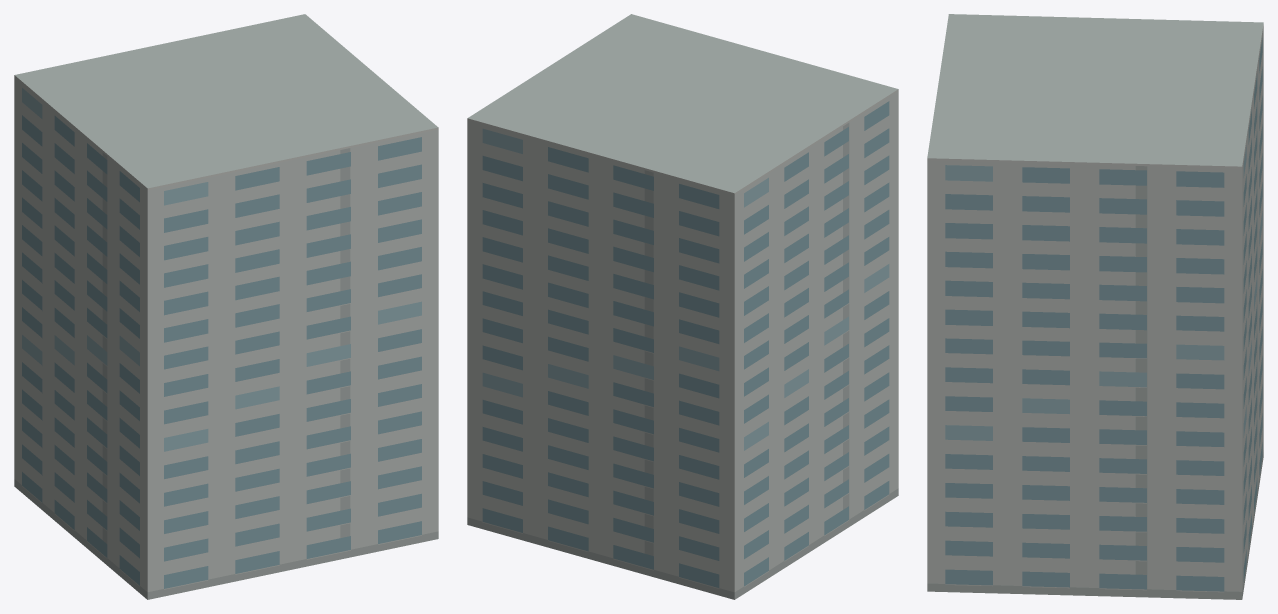
File: residential-554f9976-aea0-437b-ad8a-81db6214e89d.glb
3 renders of one model, left to right at view 1: azimuth 30°, elevation 25°; view 2: azimuth 150°, elevation 25°; view 3: azimuth 270°, elevation 25°, orthographic. The views are drawn at different scales.
Visible parts, largest first — view 1: residential-554f9976-aea0-437b-ad8a-81db6214e89d.tmp; view 2: residential-554f9976-aea0-437b-ad8a-81db6214e89d.tmp; view 3: residential-554f9976-aea0-437b-ad8a-81db6214e89d.tmp.
Boxes of the visible parts, x1,y1,x2,y2 form: residential-554f9976-aea0-437b-ad8a-81db6214e89d.tmp: (14,14,438,599); residential-554f9976-aea0-437b-ad8a-81db6214e89d.tmp: (467,14,898,599); residential-554f9976-aea0-437b-ad8a-81db6214e89d.tmp: (927,14,1263,599).
Size of the model in its own units: 37.02 by 49 by 34.5.
